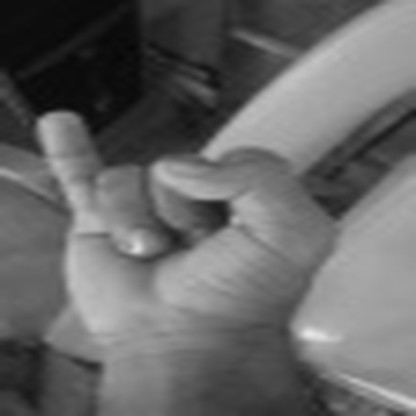i: (26, 102, 348, 330)
